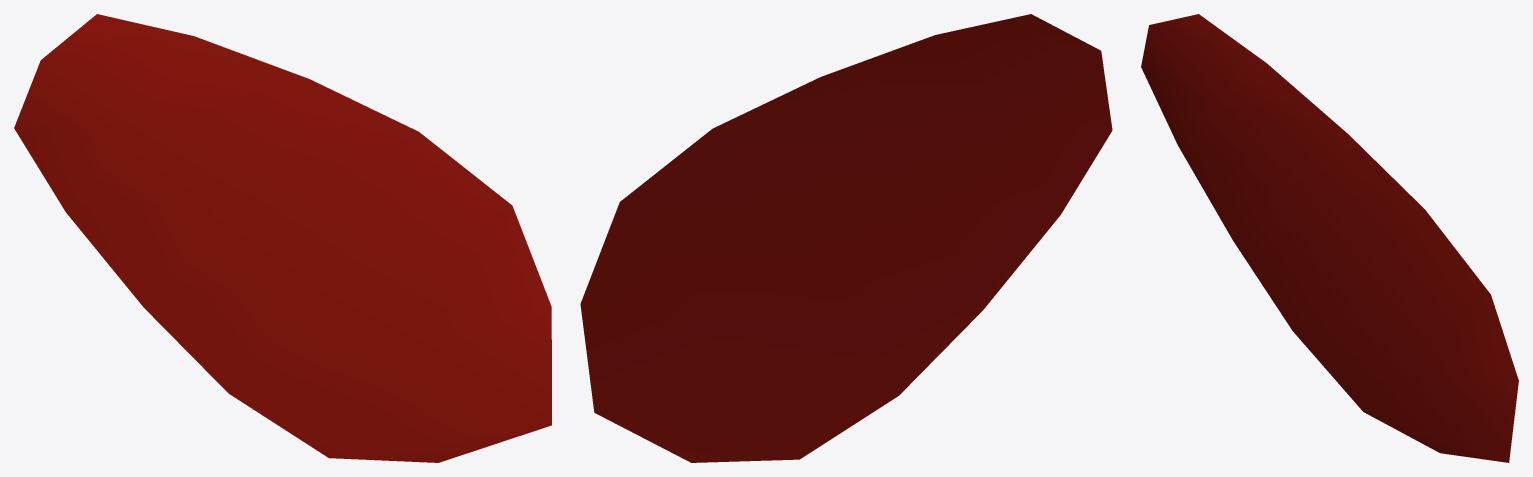
Rendered from ara_feather_flight_tertiary_027.obj.
The picture shows the model from 3 angles, left to right: view 1: azimuth 30°, elevation 25°; view 2: azimuth 150°, elevation 25°; view 3: azimuth 330°, elevation 25°; orthographic projection. The views are drawn at different scales.
Visible parts, largest first — view 1: feather_flight_tertiary_027; view 2: feather_flight_tertiary_027; view 3: feather_flight_tertiary_027.
Part boxes in pixels (x1,y1,x2,y2): feather_flight_tertiary_027: [14, 14, 551, 462]; feather_flight_tertiary_027: [580, 14, 1112, 462]; feather_flight_tertiary_027: [1141, 14, 1518, 462].
Bounding box in the file's own units: 0.0304 × 0.0289 × 0.00113.
